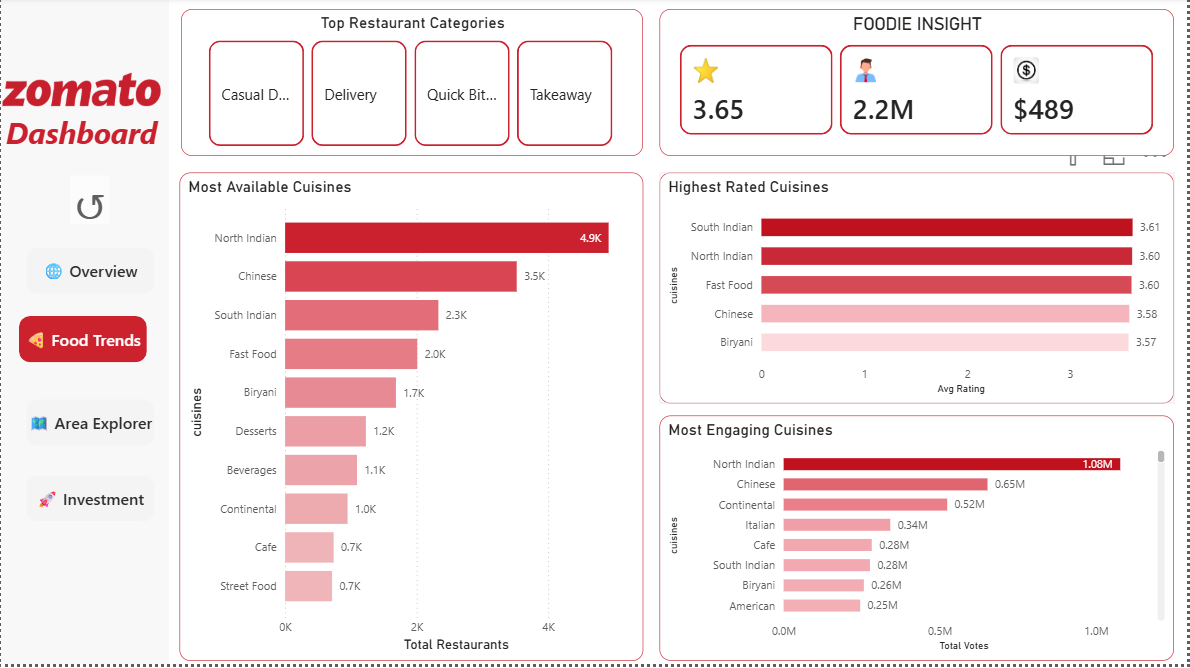

Layout of this report page (visuals, bound fields, positions):
{"tool":"powerbi","page":{"name":"🍕 Food Trends","canvas":[1280,720],"ordinal":1},"visuals":[{"type":"group","id":"g1","title":"sideBar","box":[0,0,314.9,720],"z":0},{"type":"shape","box":[0,0,181.4,720],"z":0,"group":"g1"},{"type":"image","box":[2,63,170.7,73.1],"z":1000,"group":"g1"},{"type":"pageNavigator","box":[18.9,262.7,155,315.6],"z":2000,"group":"g1"},{"type":"textbox","box":[0,117.8,314.9,75.2],"z":2500,"group":"g1"},{"type":"actionButton","box":[74.2,193,42.9,52.8],"z":3000,"group":"g1"},{"type":"advancedSlicerVisual","title":"Top Restaurant Categories","fields":{"Values":["zomato_cleaned.rest_type"]},"box":[194.6,13.2,498.9,158.7],"z":4000},{"type":"clusteredBarChart","title":"Most Available Cuisines","fields":{"Category":["zomato_cleaned.cuisines"],"Y":["_Measures.Total Restaurants"]},"box":[192.8,189,500.8,527.2],"z":5000},{"type":"clusteredBarChart","title":"Highest Rated Cuisines","fields":{"Y":["_Measures.Avg Rating"],"Category":["zomato_cleaned.cuisines"]},"box":[710.6,189,555.6,249.5],"z":6000},{"type":"clusteredBarChart","title":"Most Engaging Cuisines","fields":{"Category":["zomato_cleaned.cuisines"],"Y":["_Measures.Total Votes"]},"box":[710.6,451.7,555.6,264.6],"z":7000},{"type":"cardVisual","title":"FOODIE INSIGHT","fields":{"Data":["_Measures.Avg Rating","_Measures.Total Votes","_Measures.Avg Cost for Two"]},"box":[710.8,13,555.4,158.7],"z":8000}]}

Visuals, with their boxes on the page's 1280x720 design canvas (x1, y1, x2, y2). These are canvas units, not pixel positions in the 1190x668 screenshot, which may show the page scaled, cropped or inside an application window:
"sideBar" group: 0,0,315,720
shape: 0,0,181,720
image: 2,63,173,136
pageNavigator: 19,263,174,578
textbox: 0,118,315,193
actionButton: 74,193,117,246
"Top Restaurant Categories" advancedSlicerVisual: 195,13,694,172
"Most Available Cuisines" clusteredBarChart: 193,189,694,716
"Highest Rated Cuisines" clusteredBarChart: 711,189,1266,438
"Most Engaging Cuisines" clusteredBarChart: 711,452,1266,716
"FOODIE INSIGHT" cardVisual: 711,13,1266,172
